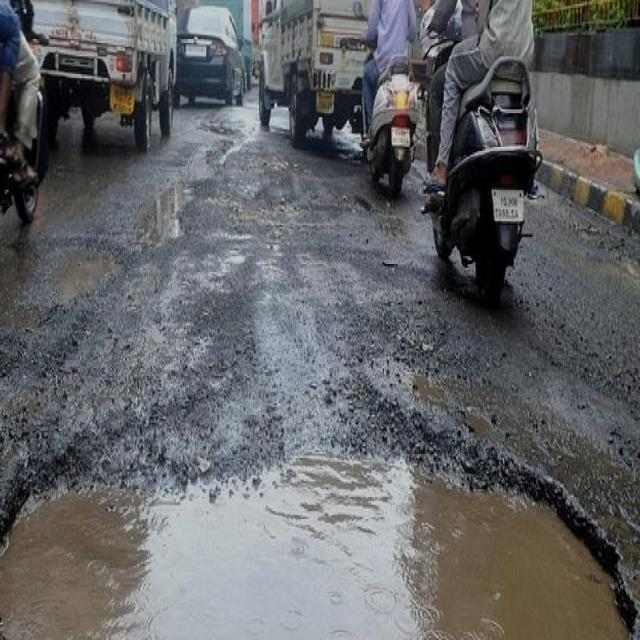road-pothole: (2, 431, 639, 639), (207, 180, 376, 231), (46, 226, 128, 309), (128, 164, 196, 249)
